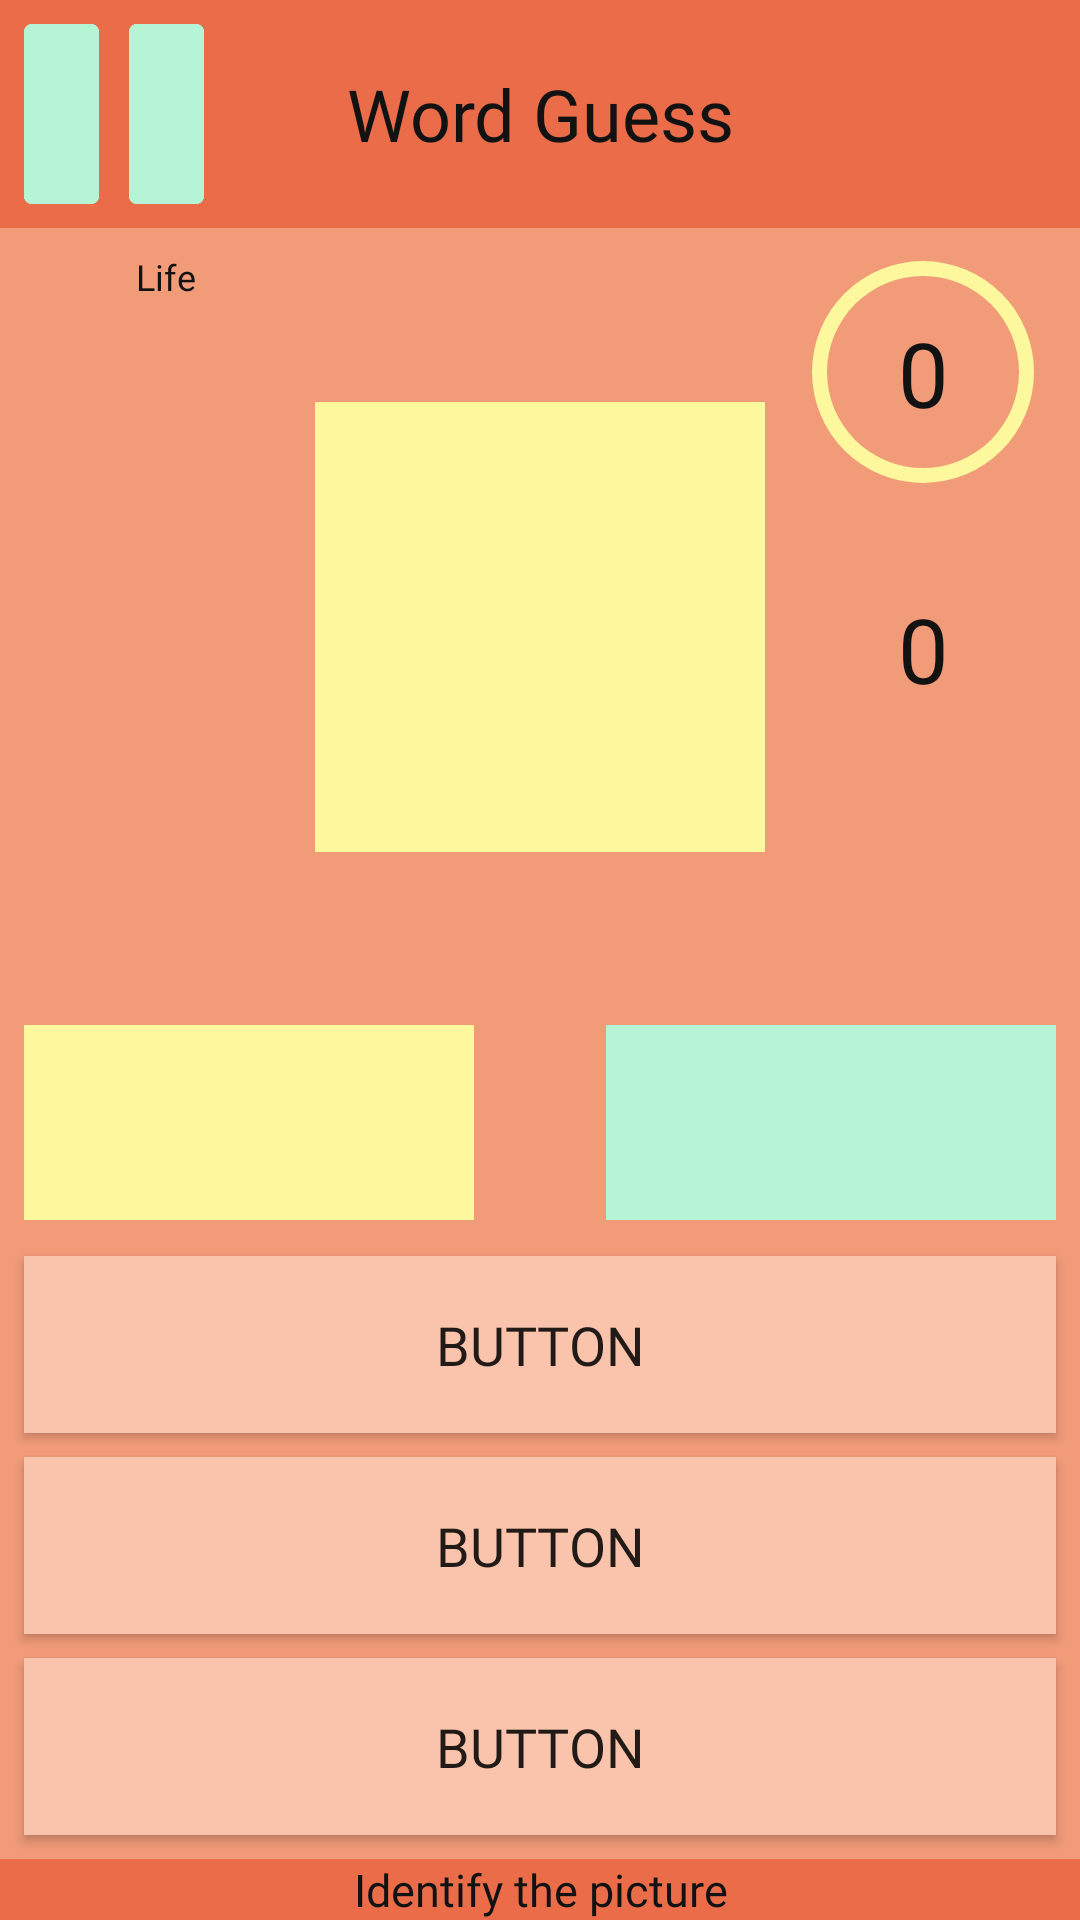

Screen size 1080 x 1920. Icon name, then its box in pixels as (x1, y1, x2, y2):
pause: (24, 24, 204, 204)
